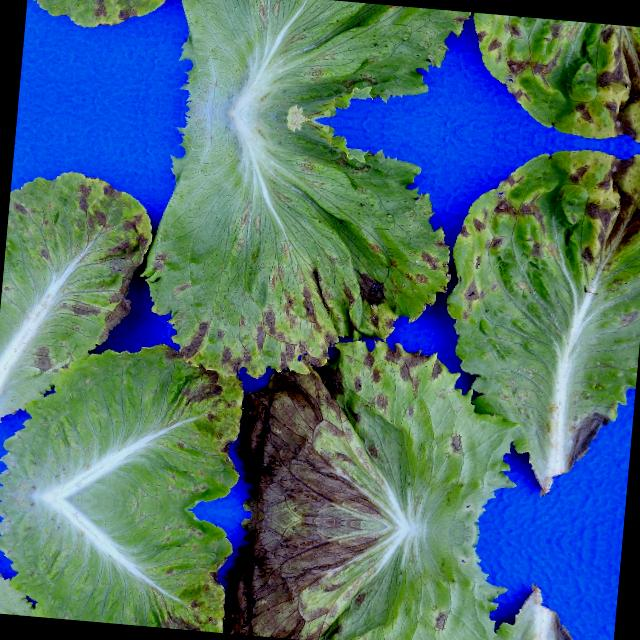Downy_mildew: (134, 111, 445, 402), (432, 148, 640, 498), (193, 322, 532, 532), (182, 512, 515, 640), (0, 344, 243, 507), (0, 154, 173, 378), (158, 0, 456, 123), (0, 495, 230, 632), (464, 12, 640, 132), (417, 577, 617, 640), (24, 0, 189, 44)
